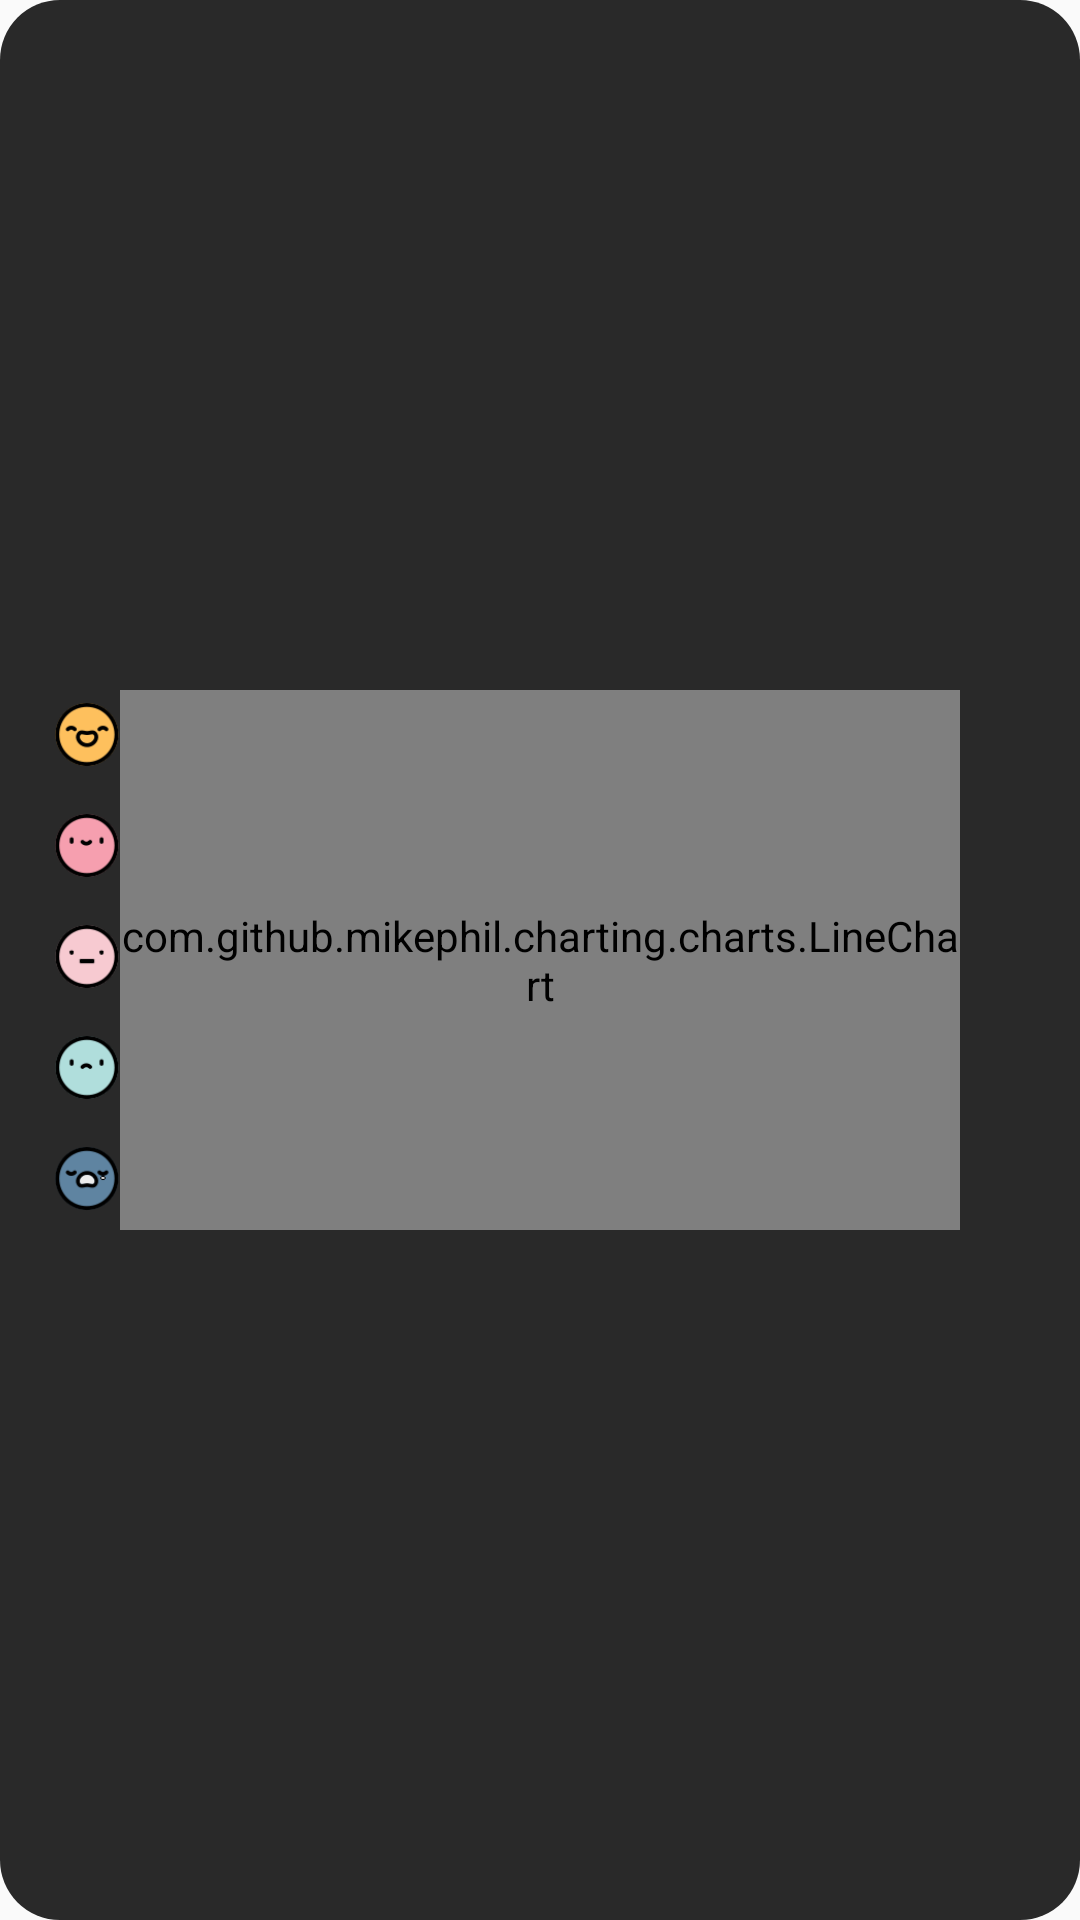

Icon click points for this 1080×1920 phone screenshot, format (x=x, y=y):
happy: (x=87, y=845)
no emotion: (x=87, y=956)
sad: (x=87, y=1067)
super happy: (x=87, y=734)
super sad: (x=87, y=1178)
